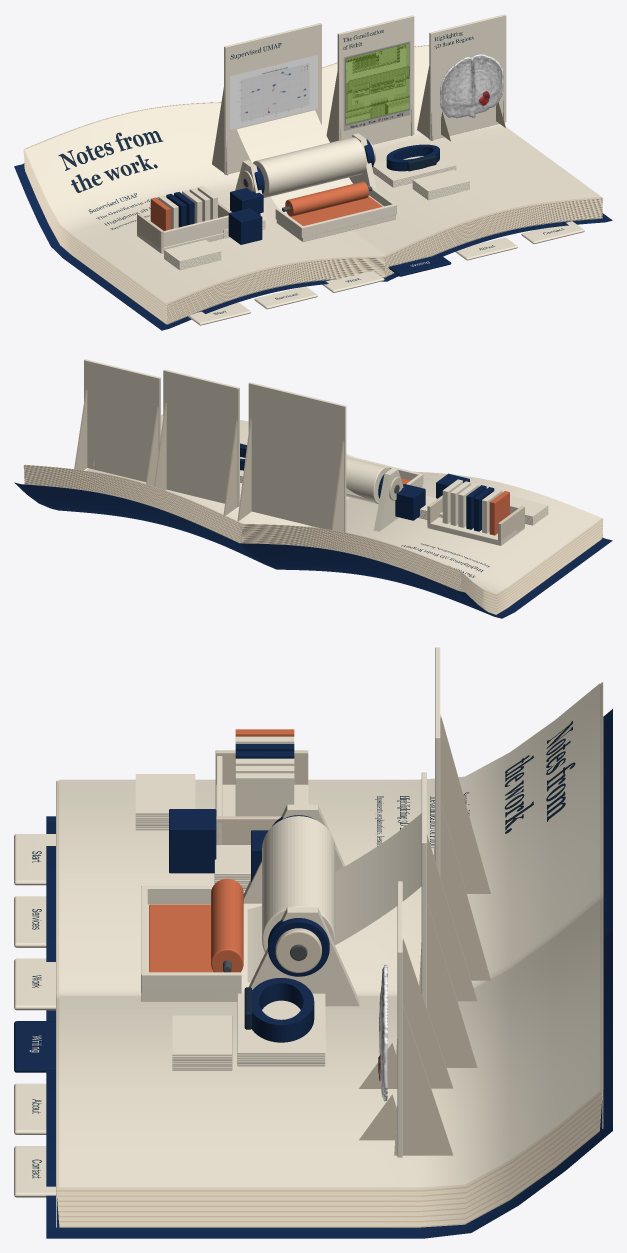
The model's file is writing-geometry.glb.
The picture shows the model from 3 angles, top to bottom: view 1: azimuth 30°, elevation 25°; view 2: azimuth 150°, elevation 25°; view 3: azimuth 270°, elevation 25°; orthographic projection. The views are drawn at different scales.
Parts seen in each view (by area): view 1: Reading spread, Original Fitbit game scene, Brain article folio, Original supervised embedding, UMAP proof sheet, Ivory proofing roller, Fitbit article folio, Cobalt lower cover, Continuous folded proof sheet, Source brain illustration relief, Paper leaf 29, Coral ink roller (+53 smaller); view 2: Reading spread, UMAP proof sheet, Cobalt lower cover, Fitbit article folio, Brain article folio, Ivory proofing roller, Plain cobalt printer block.001, Press triangular folded support, Stationery tray base, UMAP proof sheet folded support.001, Fitbit article folio folded support, UMAP proof sheet folded support (+59 smaller); view 3: Reading spread, Cobalt lower cover, Continuous folded proof sheet, Ivory proofing roller, Paper leaf 29, Coral ink bed, Brain article folio folded support.001, Fitbit article folio folded support.001, UMAP proof sheet folded support, UMAP proof sheet folded support.001, Press triangular folded support.001, Plain cobalt printer block (+60 smaller).
Part boxes in pixels (<box>): Reading spread: <box>25,46,601,303</box>; Original Fitbit game scene: <box>343,41,410,131</box>; Brain article folio: <box>429,14,506,140</box>; Original supervised embedding: <box>230,55,317,129</box>; UMAP proof sheet: <box>224,23,321,174</box>; Ivory proofing roller: <box>253,137,366,197</box>; Fitbit article folio: <box>337,15,414,144</box>; Cobalt lower cover: <box>14,163,612,330</box>; Continuous folded proof sheet: <box>237,110,352,212</box>; Source brain illustration relief: <box>440,54,503,118</box>; Paper leaf 29: <box>23,45,602,304</box>; Coral ink roller: <box>285,181,368,216</box>; Reading spread: <box>25,414,601,593</box>; UMAP proof sheet: <box>248,382,346,532</box>; Cobalt lower cover: <box>14,482,612,618</box>; Fitbit article folio: <box>163,369,239,506</box>; Brain article folio: <box>84,359,160,481</box>; Ivory proofing roller: <box>346,457,390,504</box>; Plain cobalt printer block.001: <box>395,484,425,520</box>; Press triangular folded support: <box>374,468,403,531</box>; Stationery tray base: <box>427,517,524,545</box>; UMAP proof sheet folded support.001: <box>237,418,251,521</box>; Fitbit article folio folded support: <box>223,420,237,515</box>; UMAP proof sheet folded support: <box>331,441,344,531</box>; Reading spread: <box>59,683,599,1187</box>; Cobalt lower cover: <box>46,709,612,1238</box>; Continuous folded proof sheet: <box>247,813,421,982</box>; Ivory proofing roller: <box>262,816,335,952</box>; Paper leaf 29: <box>56,682,602,1190</box>; Coral ink bed: <box>149,904,213,972</box>; Brain article folio folded support.001: <box>394,1005,453,1155</box>; Fitbit article folio folded support.001: <box>427,901,477,1067</box>; UMAP proof sheet folded support: <box>433,715,490,893</box>; UMAP proof sheet folded support.001: <box>440,801,490,980</box>; Press triangular folded support.001: <box>249,907,359,1006</box>; Plain cobalt printer block: <box>169,809,216,873</box>.
Size of the model in its own units: 10.35 by 3.83 by 6.2.
Materials: 10 (3 with a texture image).
